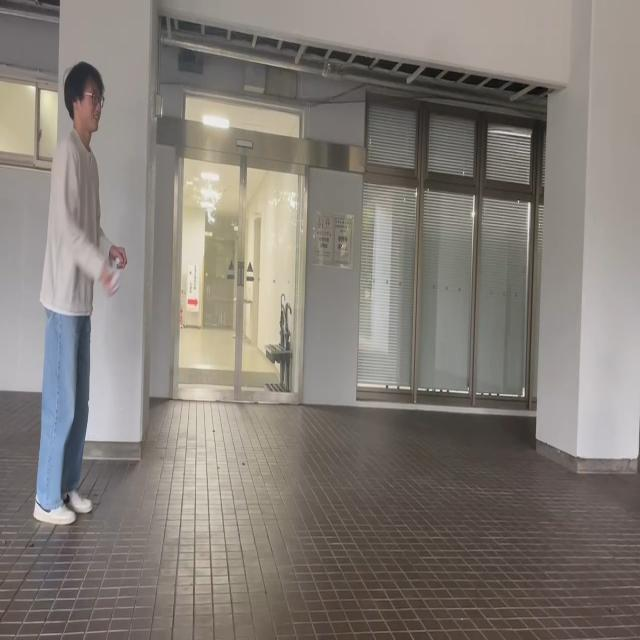paper: (104, 270, 120, 294), (115, 256, 120, 267)
